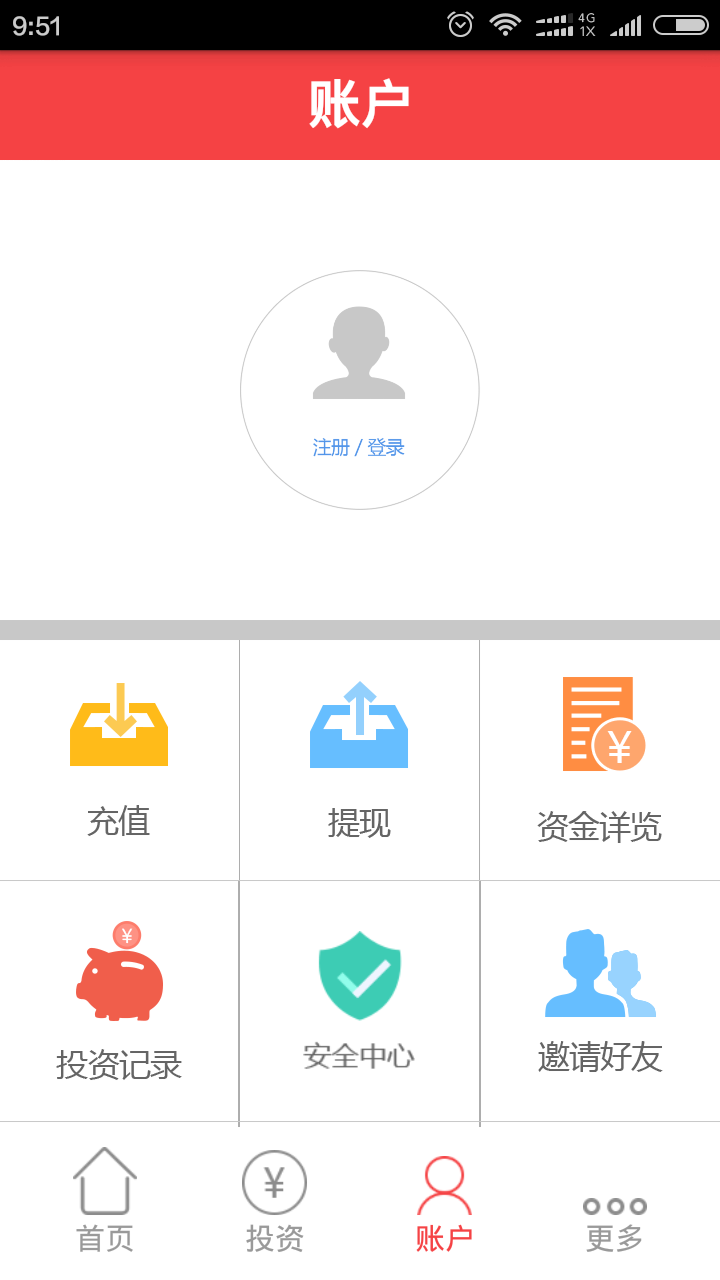imgview: (224, 261, 486, 511)
